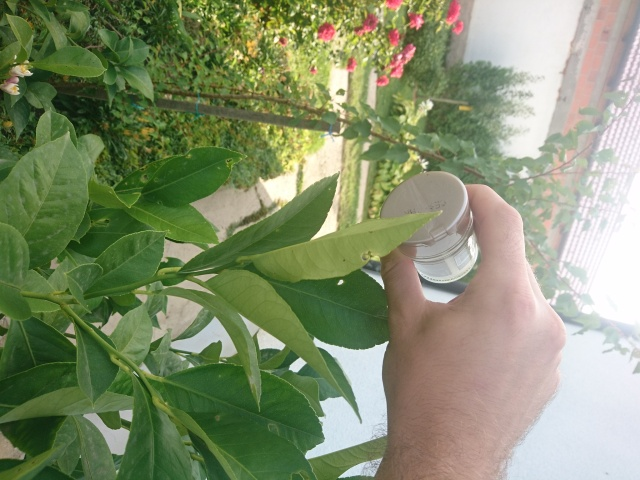Kotanyi Garlic Granules 70g: (377, 168, 482, 286)
